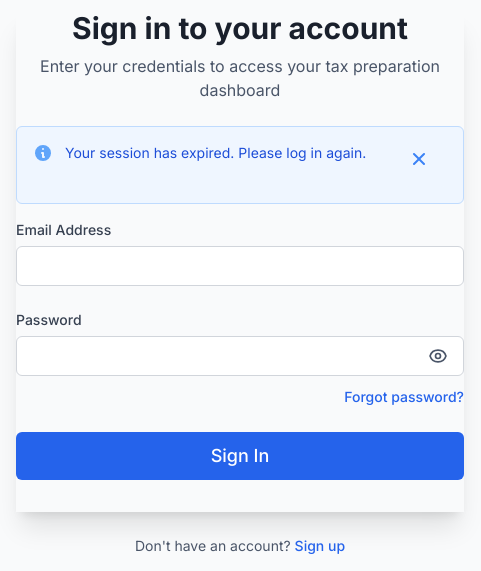
Test case: LoginPageClient - Responsive Layout › Session Expiration Message - Requirement 5.3 › should allow dismissing the expiration message
Expected: the text "Your session has expired. Please log in again." is shown, left=65, top=143, right=391, bottom=163
Click the button named "Dismiss message" at {"x": 425, "y": 165}, box left=403, top=143, right=447, bottom=187
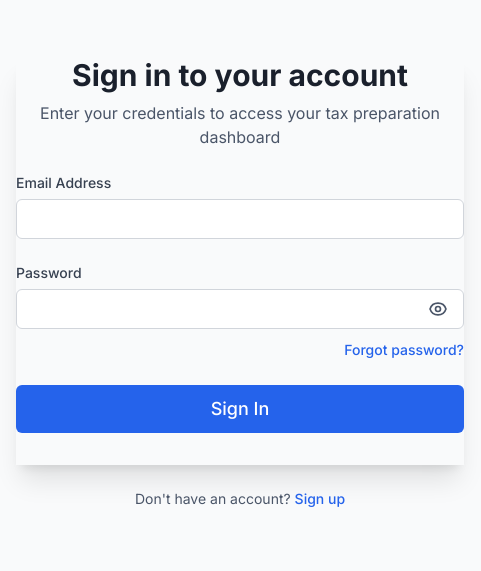
Expected: the text "Your session has expired. Please log in again." is gone
